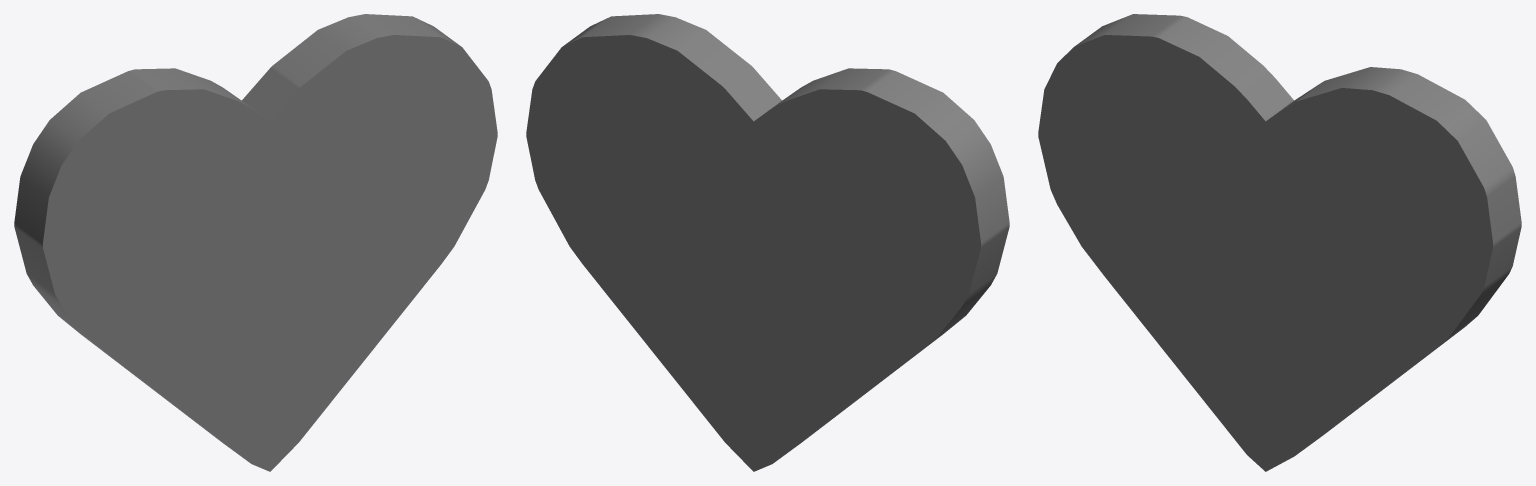
The model's file is fa-heart.obj.
3 renders of one model, left to right at view 1: azimuth 30°, elevation 25°; view 2: azimuth 150°, elevation 25°; view 3: azimuth 330°, elevation 25°, orthographic.
Size of the model in its own units: 1.06 by 0.907 by 0.1152.
1 material, 1 textured.
